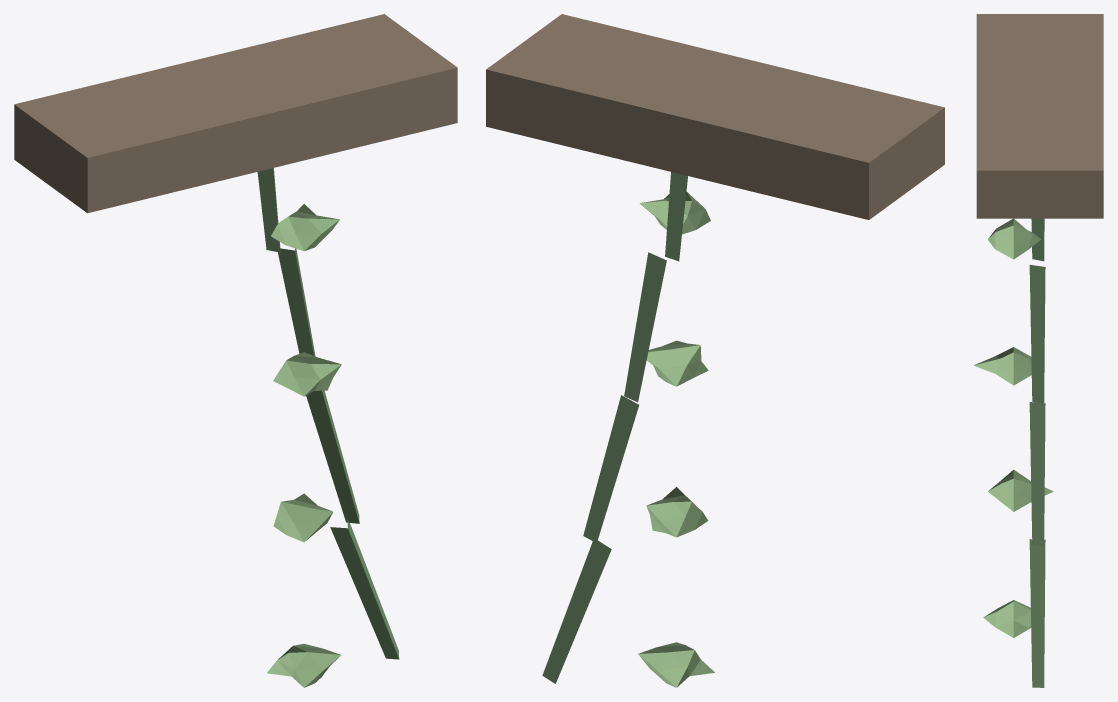
The model's file is vine_v16.glb.
The picture shows the model from 3 angles, left to right: view 1: azimuth 30°, elevation 25°; view 2: azimuth 150°, elevation 25°; view 3: azimuth 270°, elevation 25°; orthographic projection. The views are drawn at different scales.
Parts seen in each view (by area): view 1: lod0; view 2: lod0; view 3: lod0.
Boxes of the visible parts, x1,y1,x2,y2 form: lod0: (14, 14, 457, 687); lod0: (486, 14, 944, 687); lod0: (973, 14, 1103, 687).
Size of what is drawn, in the model's own units: 0.7 by 1.1 by 0.2465.
